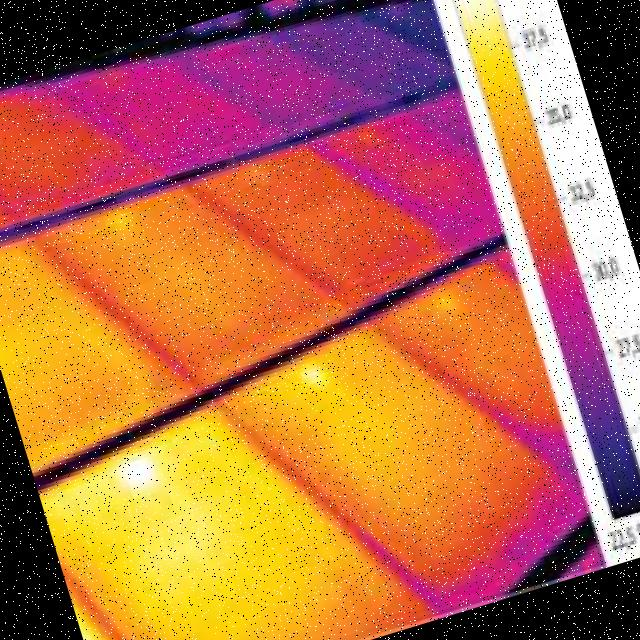Hotspot: (108, 440, 166, 505), (98, 200, 134, 237), (294, 354, 328, 390)
